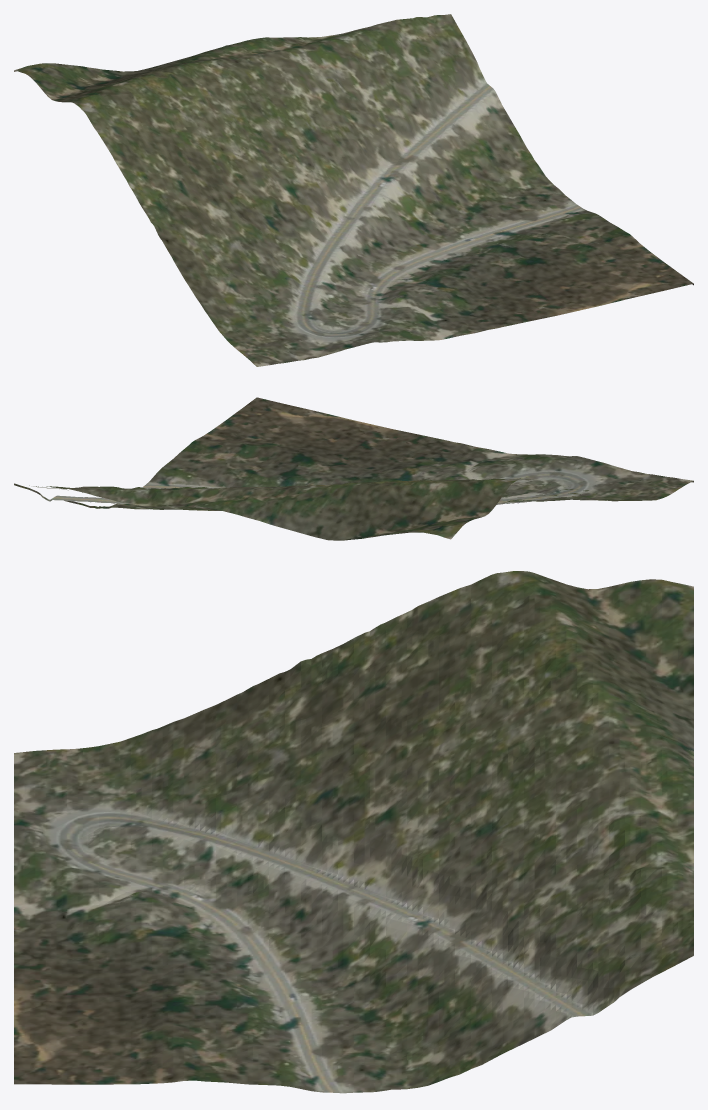
3 renders of one model, top to bottom at view 1: azimuth 30°, elevation 25°; view 2: azimuth 150°, elevation 25°; view 3: azimuth 270°, elevation 25°, orthographic. The views are drawn at different scales.
Size of the model in its own units: 250 by 88.52 by 241.
1 material, 1 textured.
